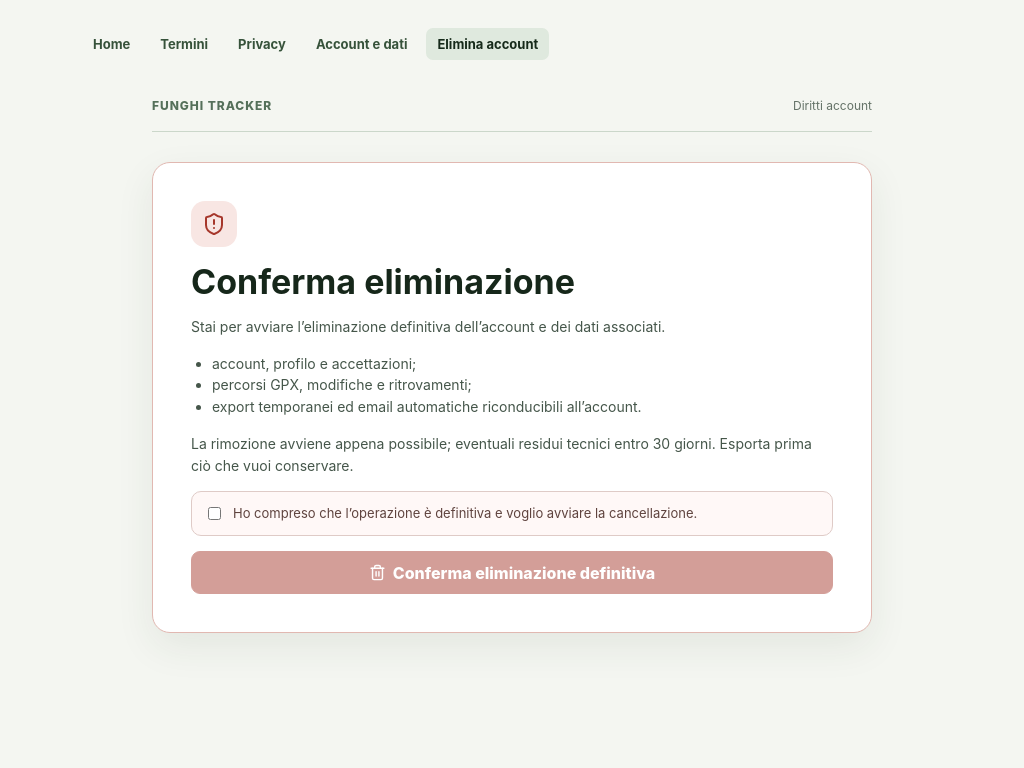
AccountDeletionPage › gestisce token scaduto senza promettere una distinzione che il backend non fornisce
The image size is (1024, 768).
Click the checkbox at (214, 514), box x1=208 y1=507 x2=221 y2=520
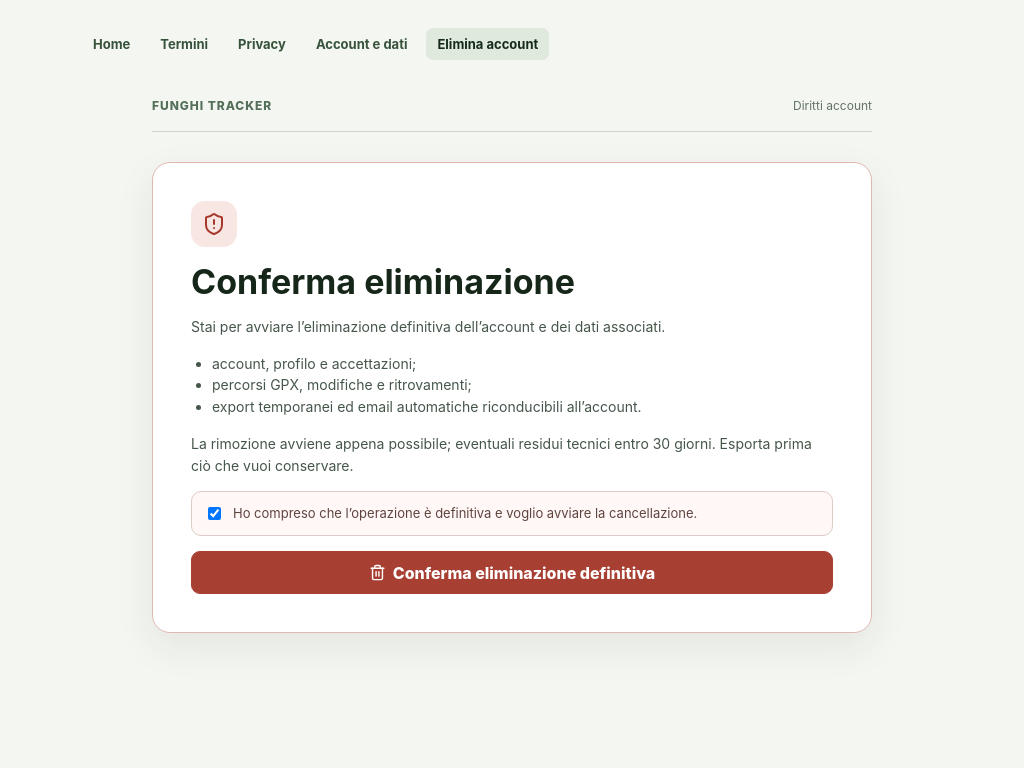
Click the button "Conferma eliminazione definitiva" at (512, 573), box x1=191 y1=551 x2=833 y2=594
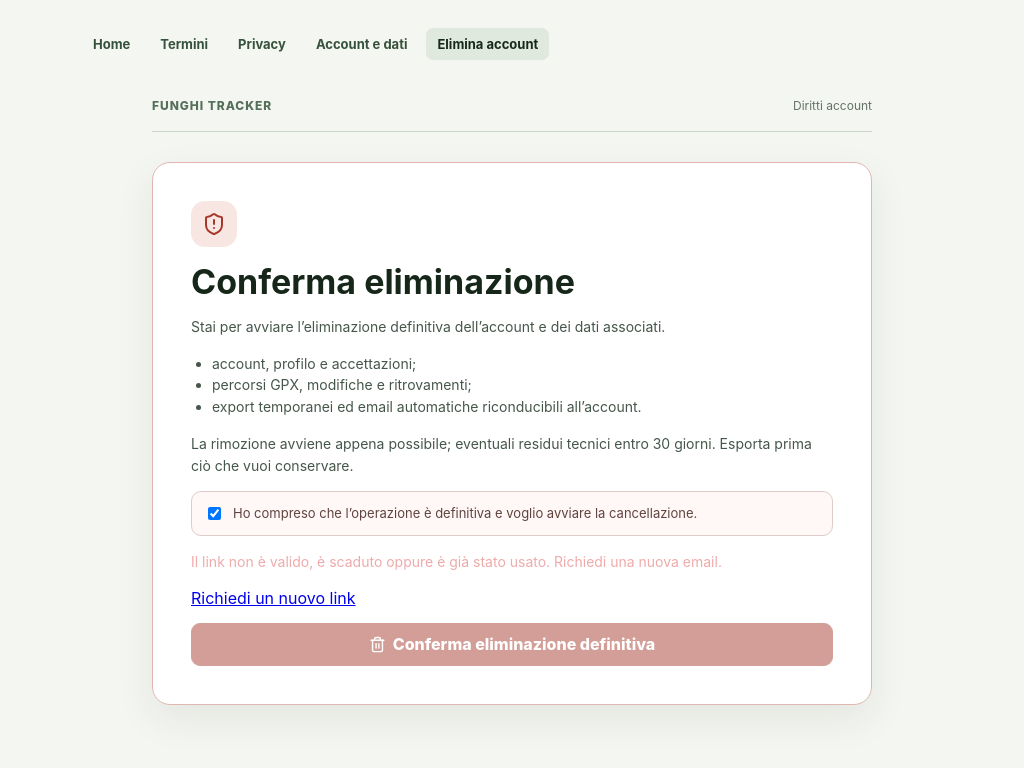
Result: the message shows "non è valido, è scaduto oppure è già stato usato" at x1=191 y1=553 x2=722 y2=570
Result: the link "Richiedi un nuovo link" is shown at x1=191 y1=588 x2=356 y2=608
